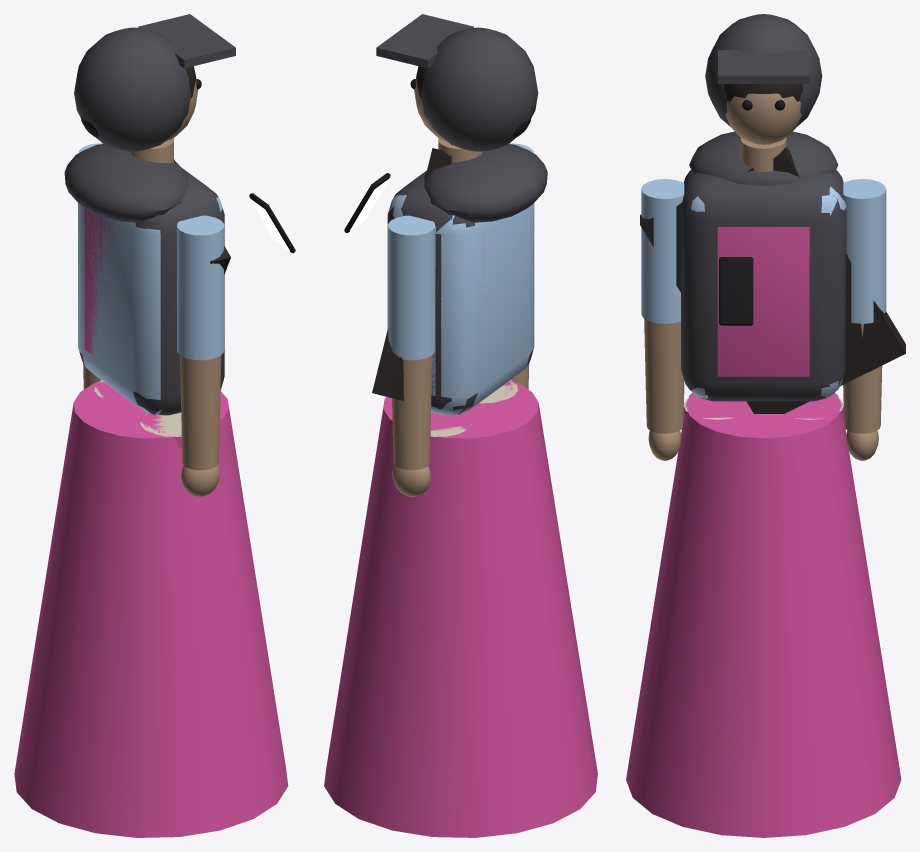
File: people.glb
3 renders of one model, left to right at view 1: azimuth 30°, elevation 25°; view 2: azimuth 150°, elevation 25°; view 3: azimuth 270°, elevation 25°, orthographic.
Parts seen in each view (by area): view 1: Walker1_skirt, Thief_headmesh, Customer_torso, Thief_torso, Customer_armR, Walker1_torso, Customer_phone, Customer_legR, Customer_headmesh; view 2: Walker1_skirt, Customer_torso, Thief_headmesh, Customer_armL, Thief_torso, Walker1_torso, Customer_phone, Customer_headmesh; view 3: Walker1_skirt, Thief_torso, Walker1_torso, Customer_armR, Customer_armL, Thief_headmesh, Customer_headmesh, Customer_phone, Customer_torso.
Part boxes in pixels (x1=…): Walker1_skirt: x1=14, y1=380, x2=288, y2=837; Thief_headmesh: x1=74, y1=14, x2=235, y2=151; Customer_torso: x1=78, y1=138, x2=222, y2=414; Thief_torso: x1=64, y1=144, x2=224, y2=415; Customer_armR: x1=177, y1=215, x2=224, y2=496; Walker1_torso: x1=84, y1=159, x2=230, y2=356; Customer_phone: x1=249, y1=193, x2=295, y2=252; Customer_legR: x1=140, y1=412, x2=181, y2=436; Customer_headmesh: x1=165, y1=66, x2=201, y2=141; Walker1_skirt: x1=324, y1=380, x2=597, y2=837; Customer_torso: x1=388, y1=138, x2=534, y2=415; Thief_headmesh: x1=376, y1=14, x2=538, y2=151; Customer_armL: x1=388, y1=215, x2=435, y2=496; Thief_torso: x1=387, y1=144, x2=547, y2=414; Walker1_torso: x1=372, y1=148, x2=494, y2=400; Customer_phone: x1=344, y1=173, x2=390, y2=232; Customer_headmesh: x1=410, y1=66, x2=446, y2=141; Walker1_skirt: x1=626, y1=392, x2=901, y2=837; Thief_torso: x1=681, y1=131, x2=846, y2=401; Walker1_torso: x1=640, y1=146, x2=905, y2=413; Customer_armR: x1=641, y1=179, x2=684, y2=460; Customer_armL: x1=843, y1=179, x2=886, y2=460; Thief_headmesh: x1=705, y1=14, x2=822, y2=126; Customer_headmesh: x1=724, y1=84, x2=803, y2=145; Customer_phone: x1=719, y1=257, x2=753, y2=325; Customer_torso: x1=690, y1=138, x2=846, y2=398.
Bounding box in the file's own units: 0.6091 × 1.83 × 0.6098.
